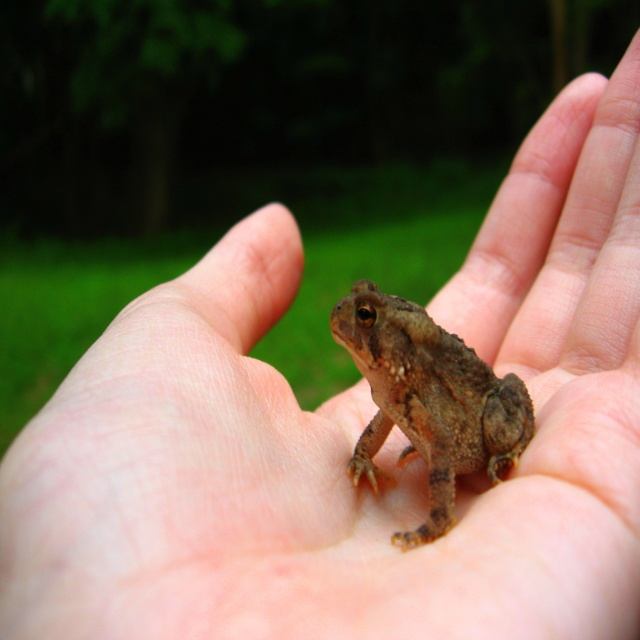Frog: (329, 280, 536, 557)
